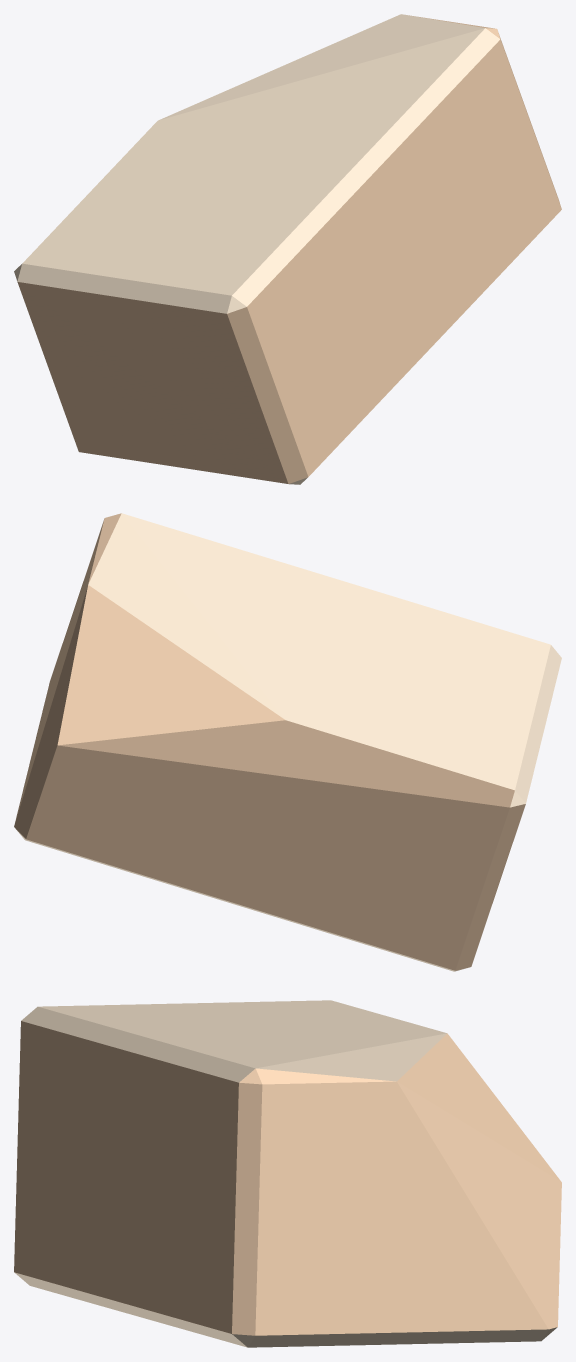
Rendered from Rubble_chunk_A.fbx.
The picture shows the model from 3 angles, top to bottom: view 1: azimuth 30°, elevation 25°; view 2: azimuth 150°, elevation 25°; view 3: azimuth 270°, elevation 25°; orthographic projection. The views are drawn at different scales.
Visible parts, largest first — view 1: Cube.005; view 2: Cube.005; view 3: Cube.005.
Boxes of the visible parts, x1=… form: Cube.005: x1=14, y1=14, x2=561, y2=484; Cube.005: x1=14, y1=513, x2=561, y2=971; Cube.005: x1=14, y1=1000, x2=561, y2=1347.
Size of the model in its own units: 384 by 255 by 298.
